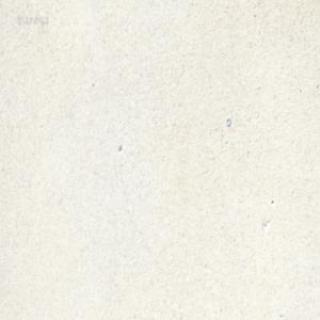Washertrack_idkeyframe: (224, 115, 230, 127)
